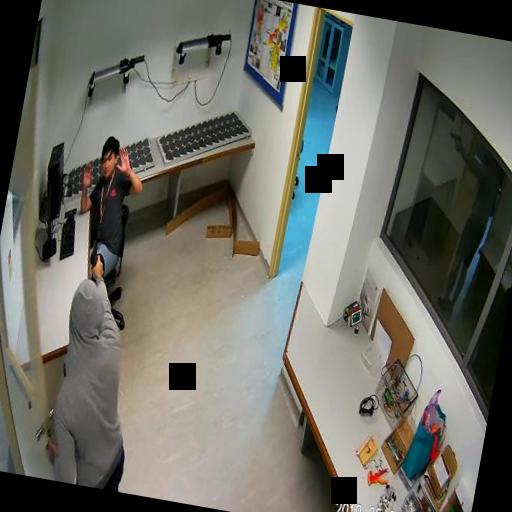Handgun: (86, 236, 108, 276)
